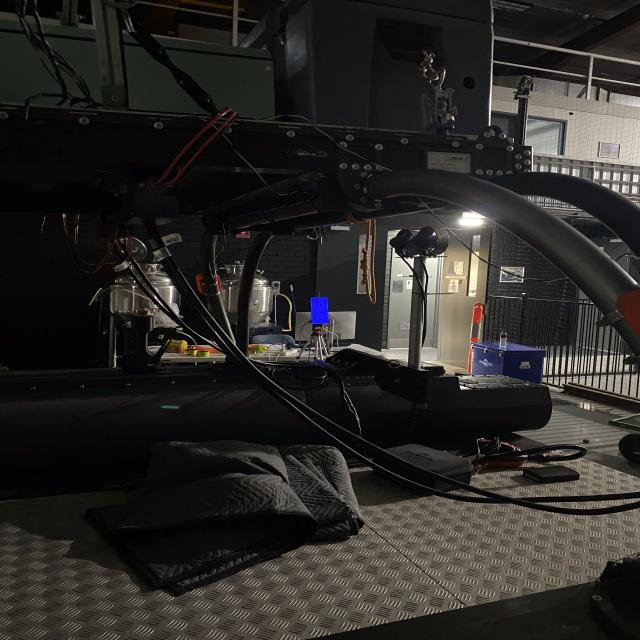matrix: (302, 294, 336, 331)
